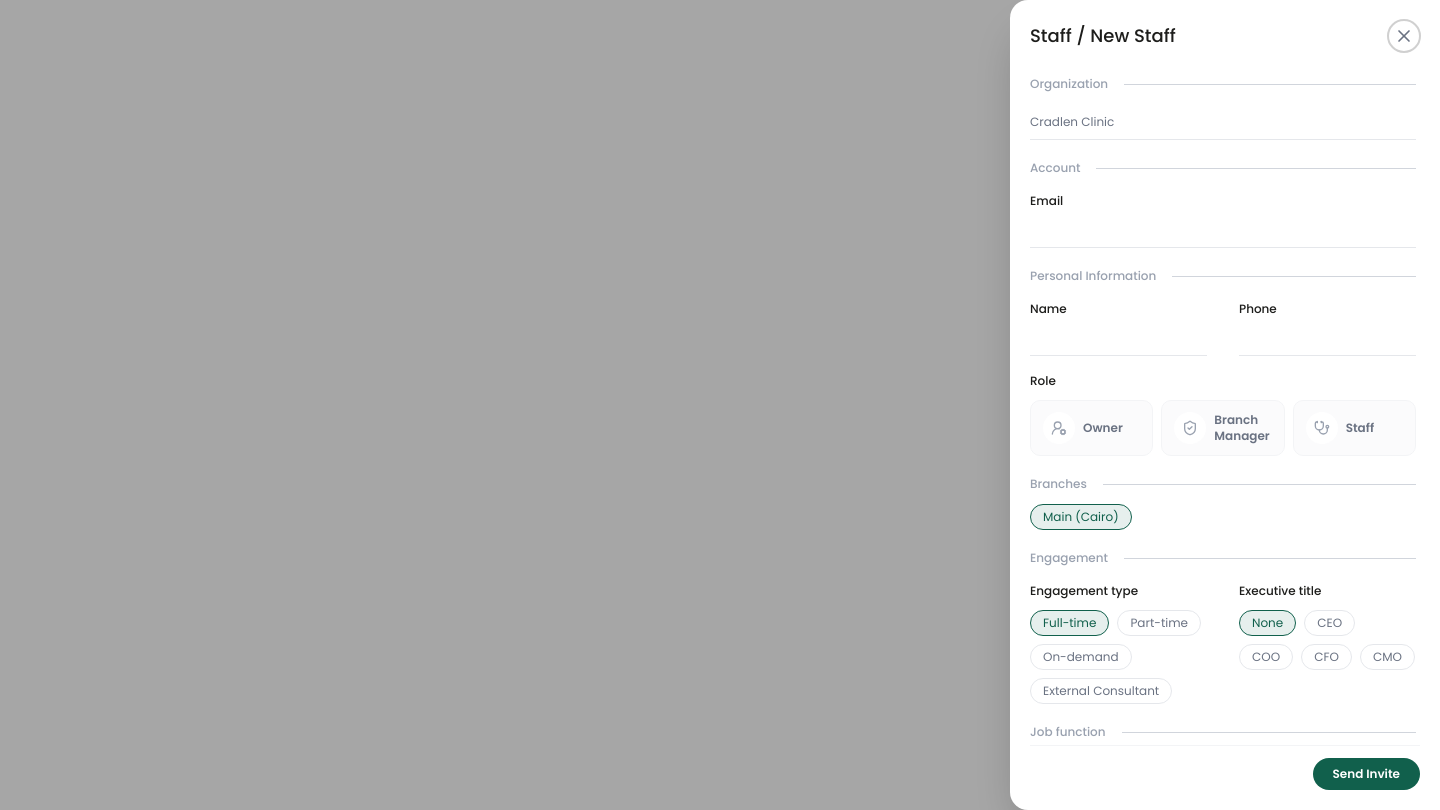
Test case: StaffCreateDrawer › blocks submission and flags review when required fields are missing
The width and height of the screenshot is (1440, 810).
Click the button "Send Invite". click: (1366, 774)
box: [1312,758,1420,790]
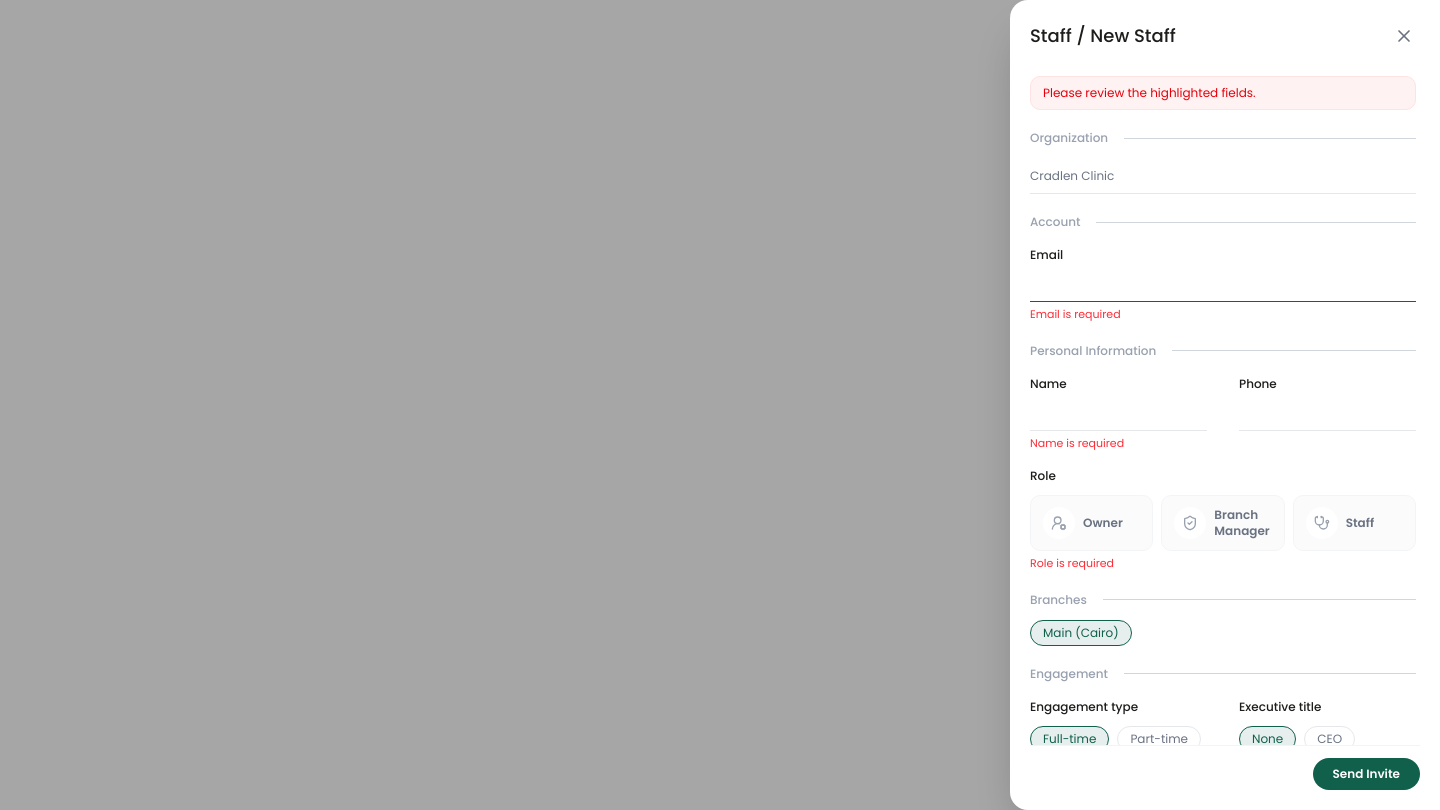
Check: the text "Please review the highlighted fields." is shown, box [1030,76,1416,110]
